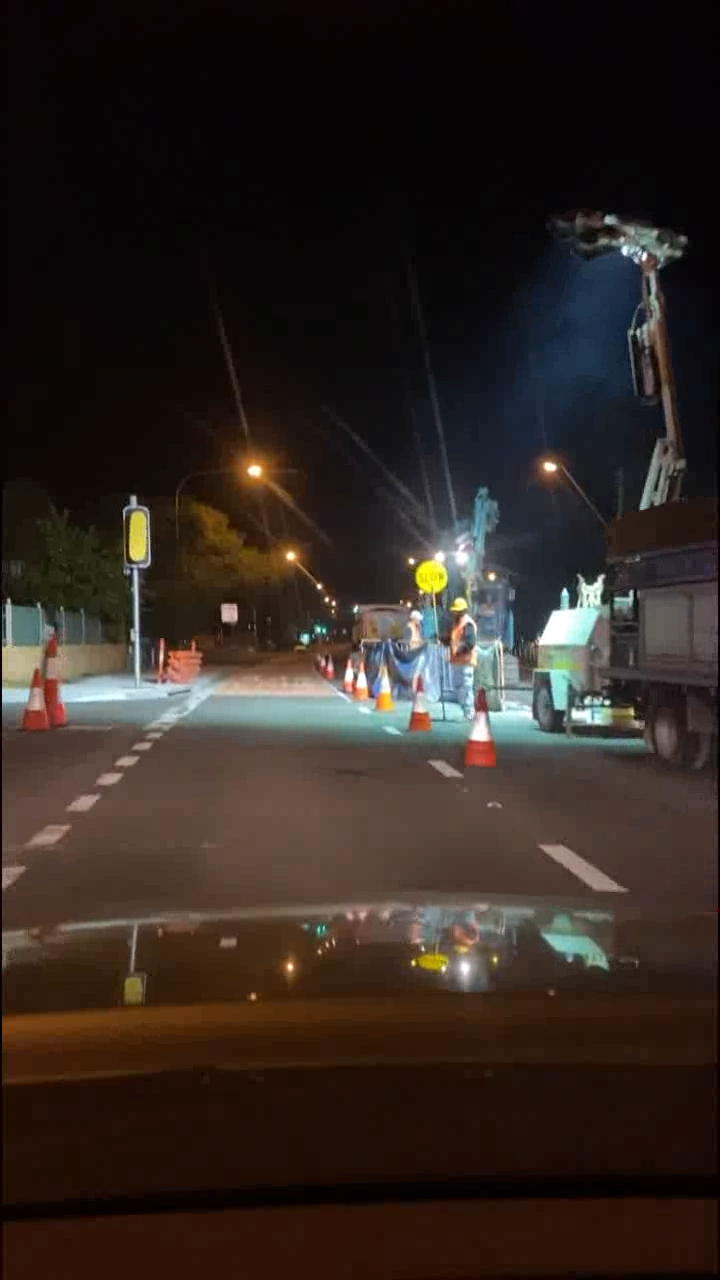person: (408, 534, 497, 727)
road cone: (25, 623, 72, 763), (470, 692, 499, 782)
truck: (516, 171, 714, 757)
